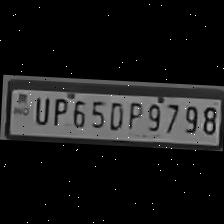5: (86, 95, 106, 129)
6: (67, 95, 87, 127)
7: (160, 99, 180, 133)
8: (198, 101, 218, 135)
9: (142, 98, 162, 132), (180, 100, 200, 134)
D: (104, 96, 124, 128)
P: (47, 92, 69, 125), (122, 96, 142, 130)
U: (28, 91, 50, 125)
